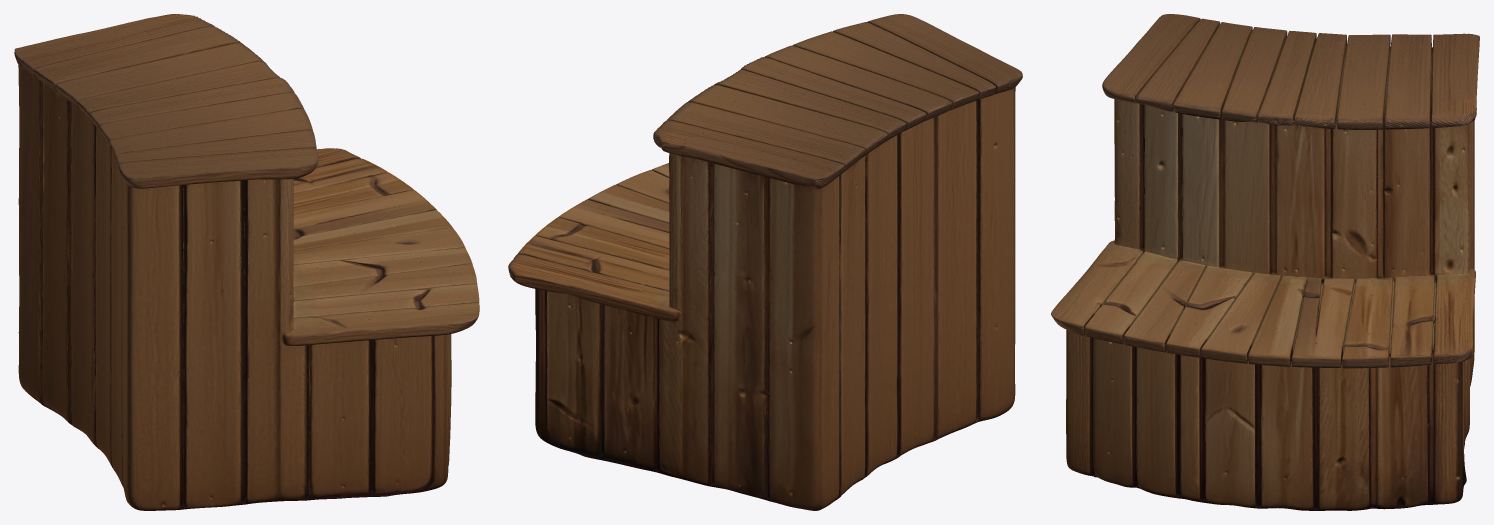
Rendered from schodki.glb.
3 renders of one model, left to right at view 1: azimuth 30°, elevation 25°; view 2: azimuth 150°, elevation 25°; view 3: azimuth 270°, elevation 25°, orthographic. The views are drawn at different scales.
Visible parts, largest first — view 1: tripo_node_ec9ace52-d978-41dc-8346-f5a4e5c65f77; view 2: tripo_node_ec9ace52-d978-41dc-8346-f5a4e5c65f77; view 3: tripo_node_ec9ace52-d978-41dc-8346-f5a4e5c65f77.
Part boxes in pixels (x1,y1,x2,y2): tripo_node_ec9ace52-d978-41dc-8346-f5a4e5c65f77: [14, 14, 479, 510]; tripo_node_ec9ace52-d978-41dc-8346-f5a4e5c65f77: [508, 14, 1022, 510]; tripo_node_ec9ace52-d978-41dc-8346-f5a4e5c65f77: [1051, 14, 1479, 510].
Size of the model in its own units: 0.9705 by 0.842 by 0.9807.
Materials: 1 (1 with a texture image).
